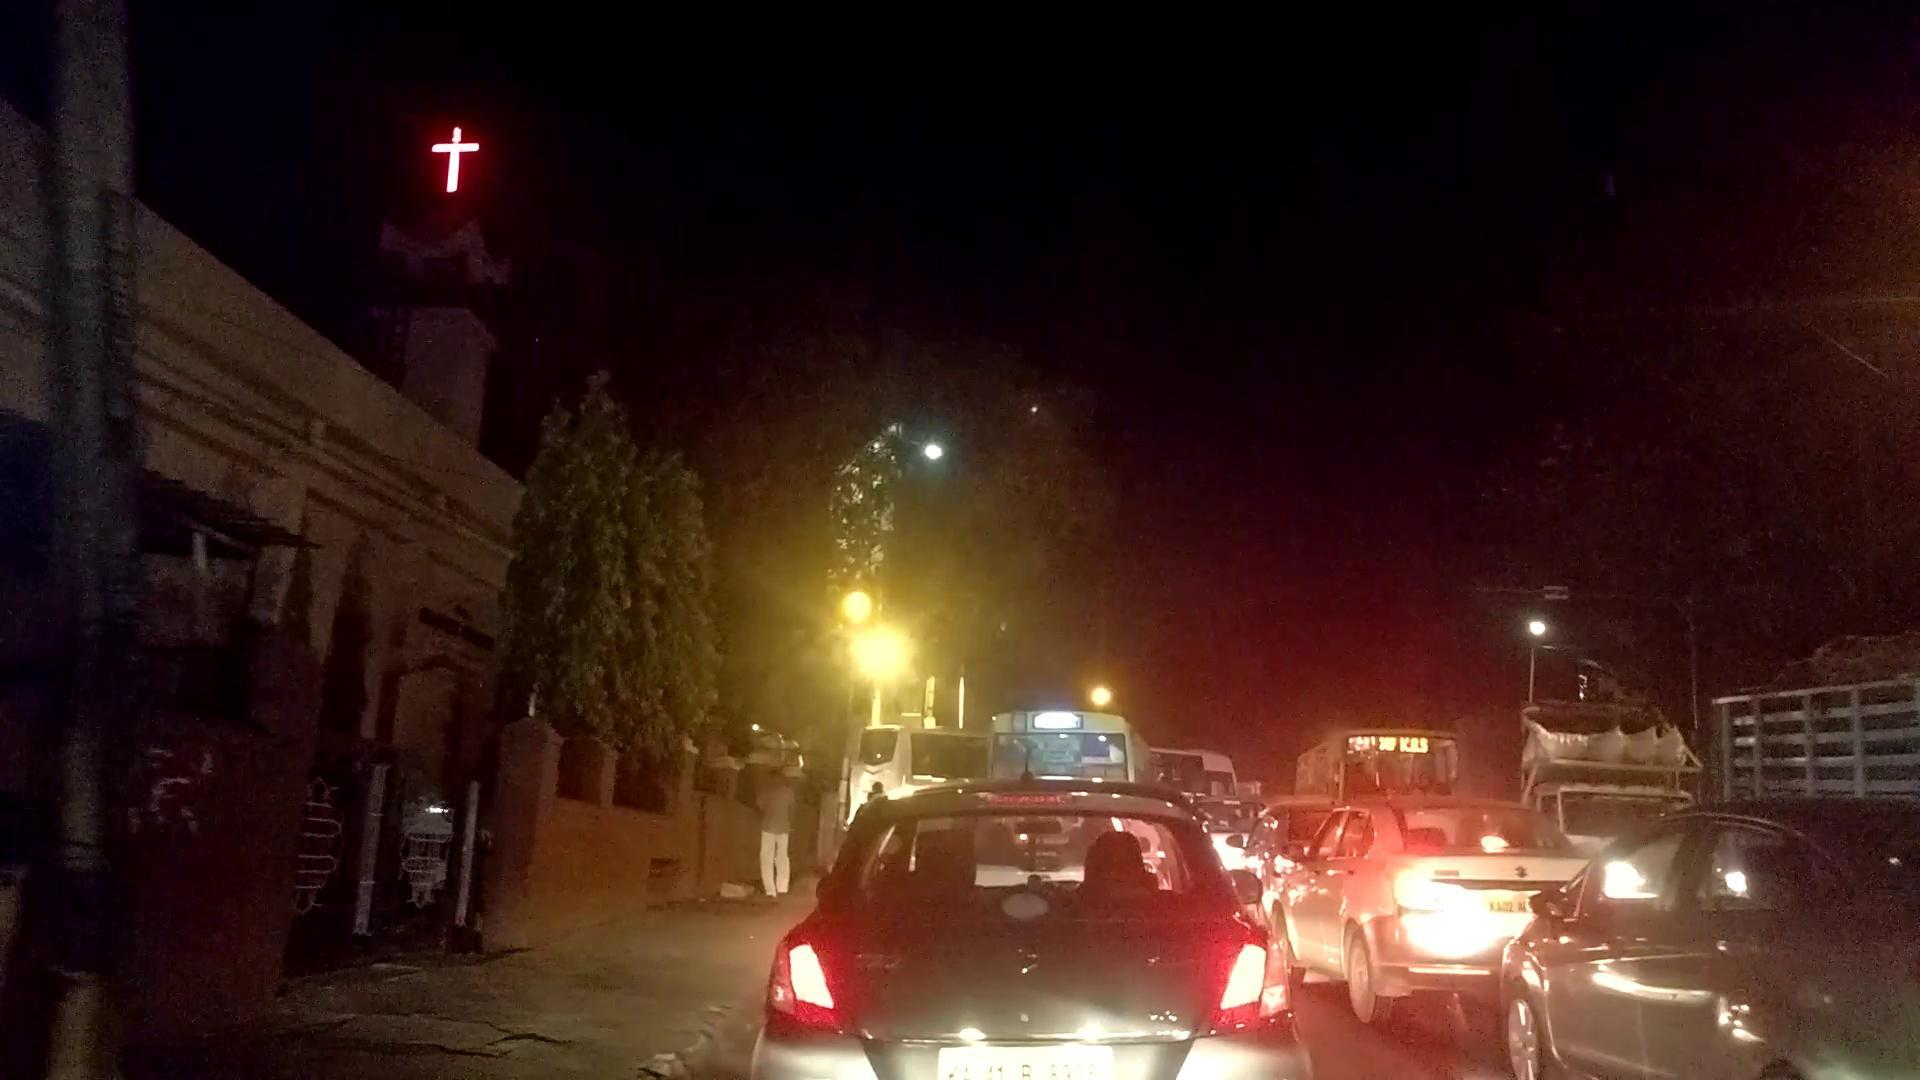on: (600, 392, 1159, 771)
